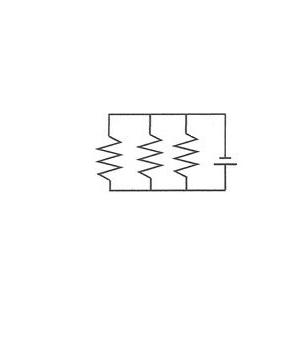resistor: (167, 116, 202, 188), (82, 125, 119, 186), (135, 118, 167, 187)
